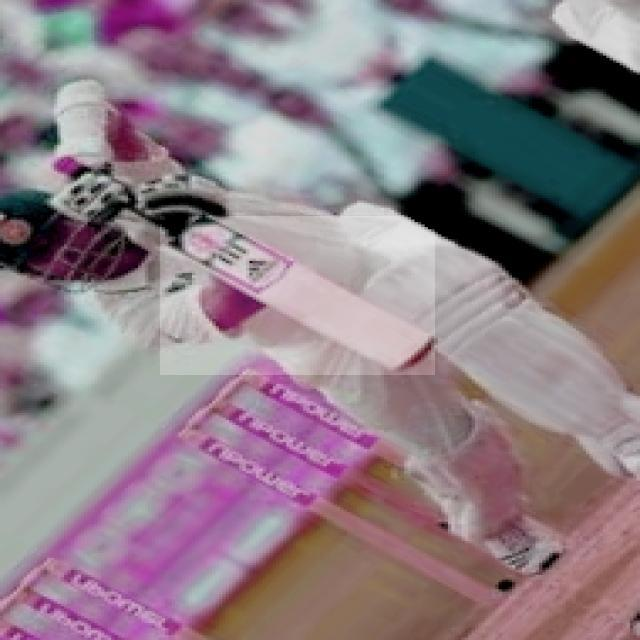bat: (160, 214, 438, 375)
toe: (393, 340, 435, 377)
